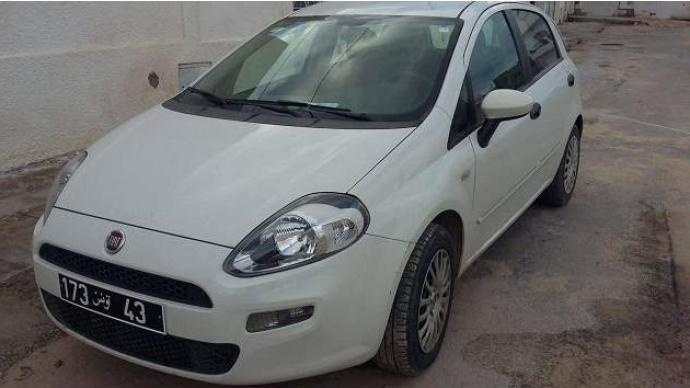LP: (54, 271, 168, 337)
